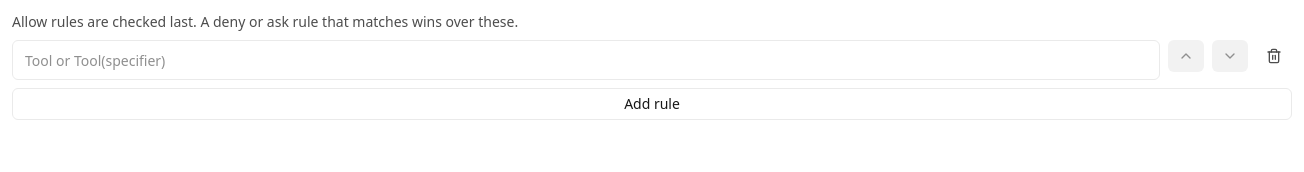
it: PermissionRulesControl › flags a rule the syntax refuses
Type "Bash(" into the field named "Rule 1".
click(586, 60); type("Bash(")  # box [12,40,1160,80]
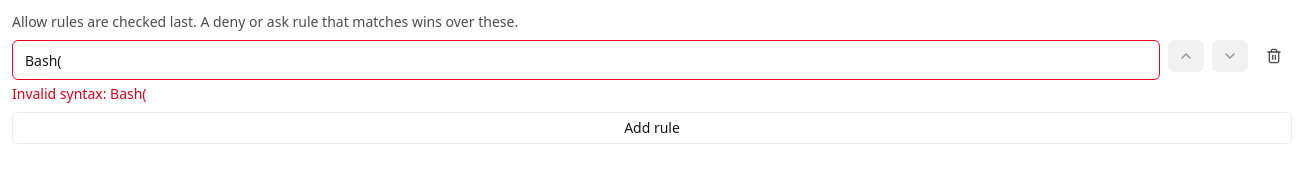
Expected: the text "Invalid syntax: Bash(" is shown, [12,84,147,103]
